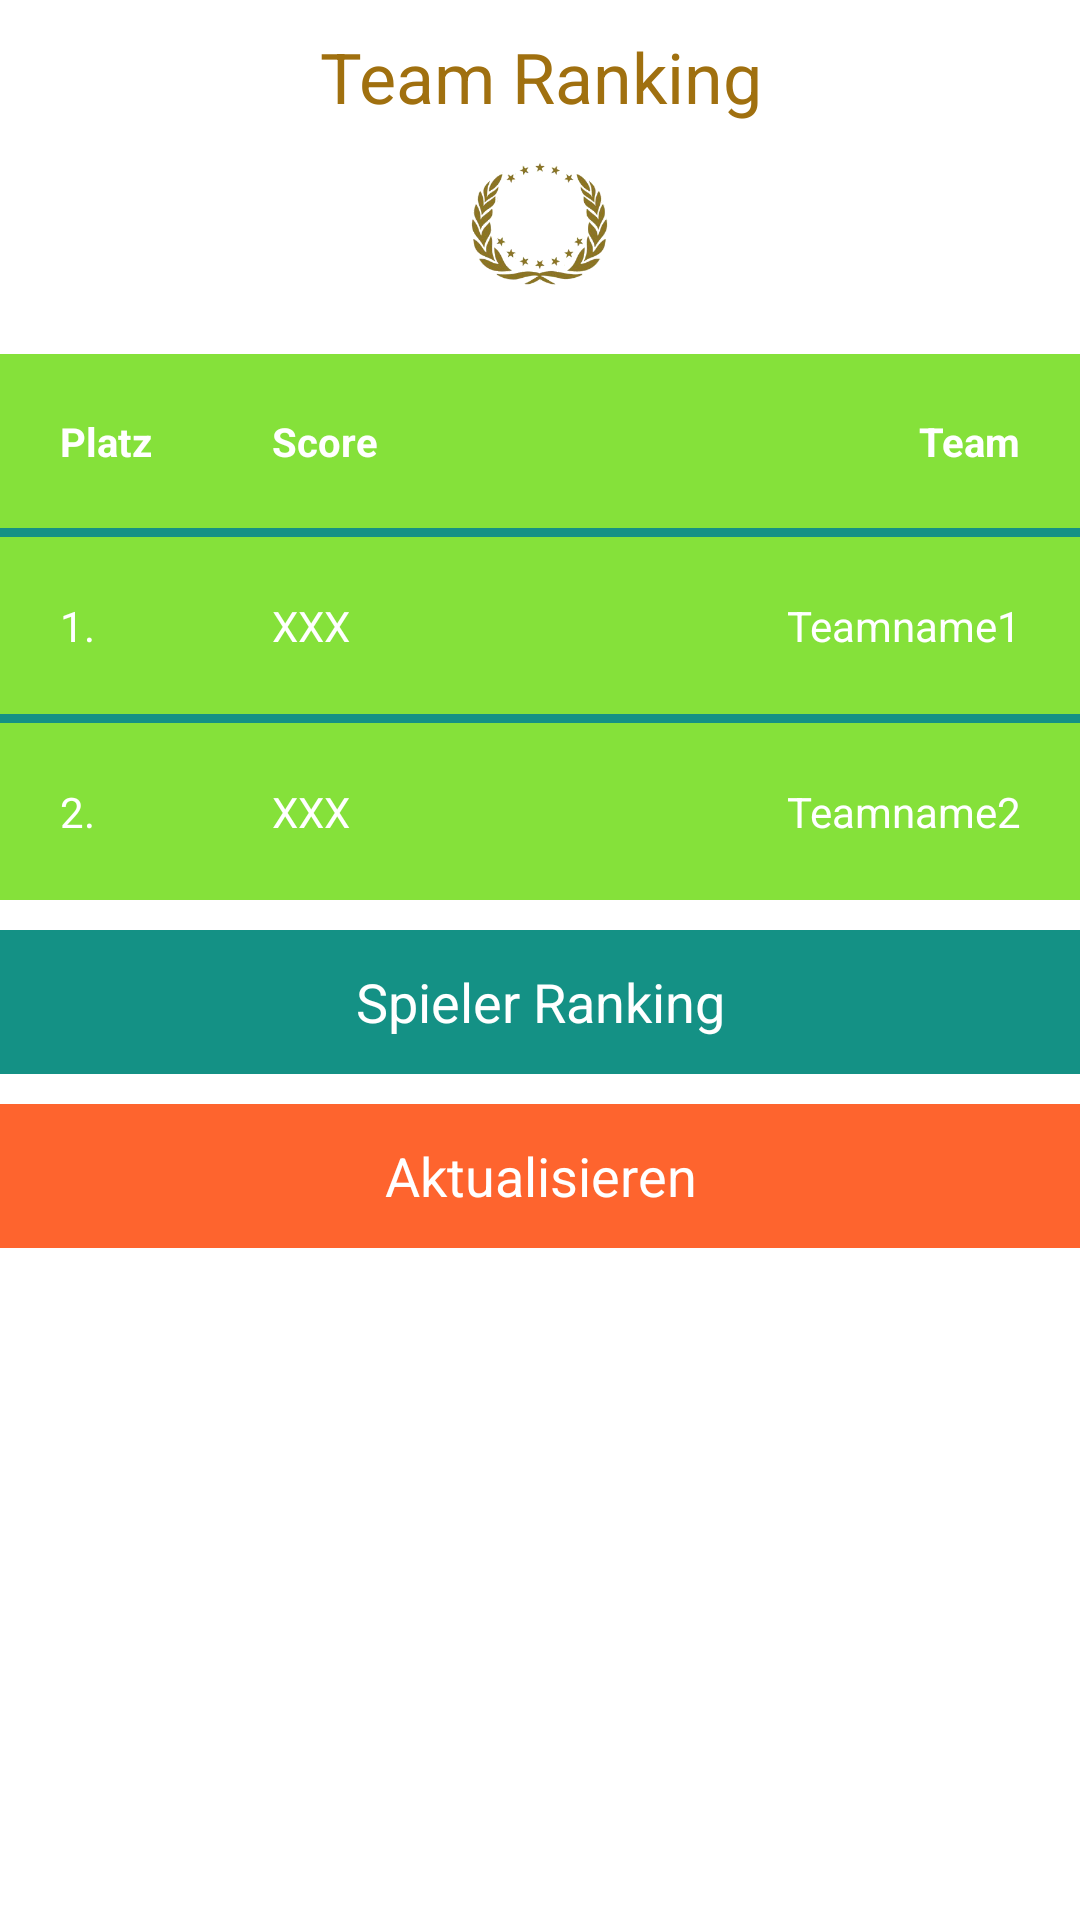

Icon click points for this 1080w x 1920h phone screenshot, format (x,y):
gewinner: (539,224)
